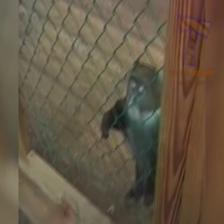monkey: (120, 55, 158, 128)
